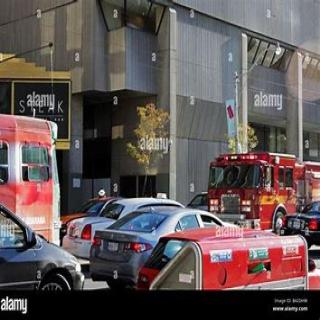Fire_truck: (206, 150, 319, 235), (0, 111, 60, 246)
